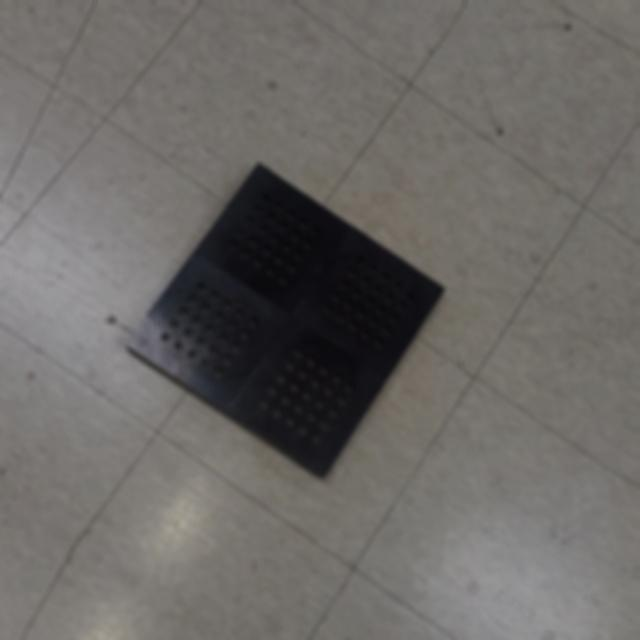pallet: (116, 148, 458, 486)
